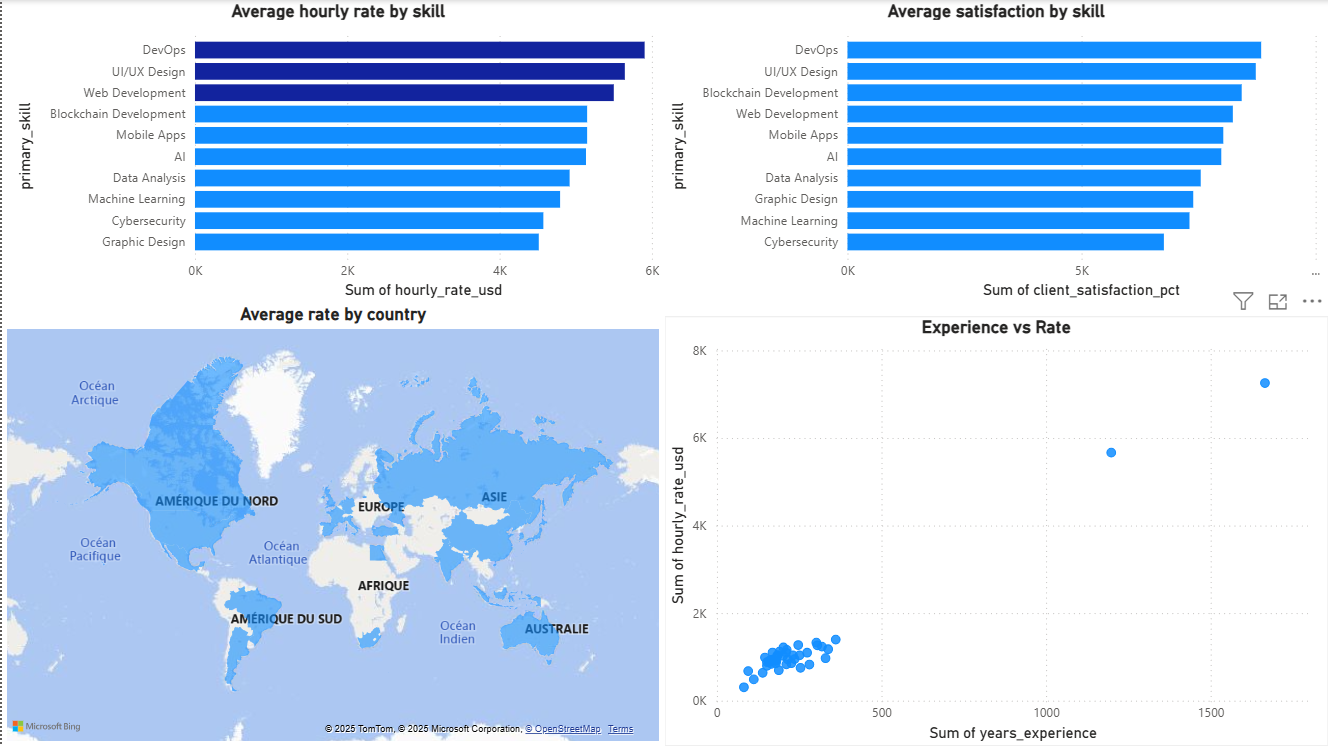

The dashboard page shown, as its layout file describes it:
{"tool":"powerbi","page":{"name":"Dashboard","canvas":[1280,720],"ordinal":0},"visuals":[{"type":"barChart","title":"Average hourly rate by skill","fields":{"Category":["global_freelancers_clean.primary_skill"],"Y":["Sum(global_freelancers_clean.hourly_rate_usd)"]},"box":[0,0,639.4,293.2],"z":0},{"type":"barChart","title":"Average satisfaction by skill","fields":{"Category":["global_freelancers_clean.primary_skill"],"Y":["Sum(global_freelancers_clean.client_satisfaction_pct)"]},"box":[639.4,0,640.6,293.2],"z":1000},{"type":"scatterChart","title":"Experience vs Rate","fields":{"X":["Sum(global_freelancers_clean.years_experience)"],"Y":["Sum(global_freelancers_clean.hourly_rate_usd)"],"Category":["global_freelancers_clean.rating"]},"box":[640,305.7,640,414.3],"z":2000},{"type":"filledMap","title":"Average rate by country","fields":{"Category":["global_freelancers_clean.country"]},"box":[0,293.2,639.4,427.1],"z":3000}]}

Visuals, with their boxes in screenshot pixels (x1, y1, x2, y2), scaled from the page's 1280x720 canvas onto the 1328x746 screenshot:
"Average hourly rate by skill" barChart: 0/0/663/304
"Average satisfaction by skill" barChart: 663/0/1327/304
"Experience vs Rate" scatterChart: 664/317/1327/745
"Average rate by country" filledMap: 0/304/663/745
